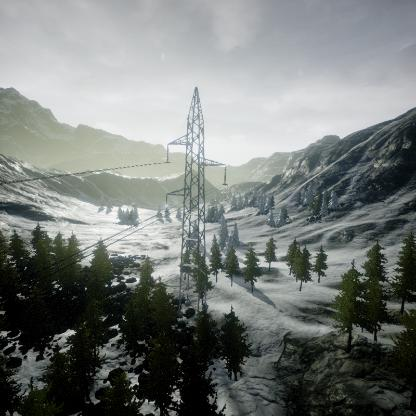tower: (163, 87, 230, 313)
